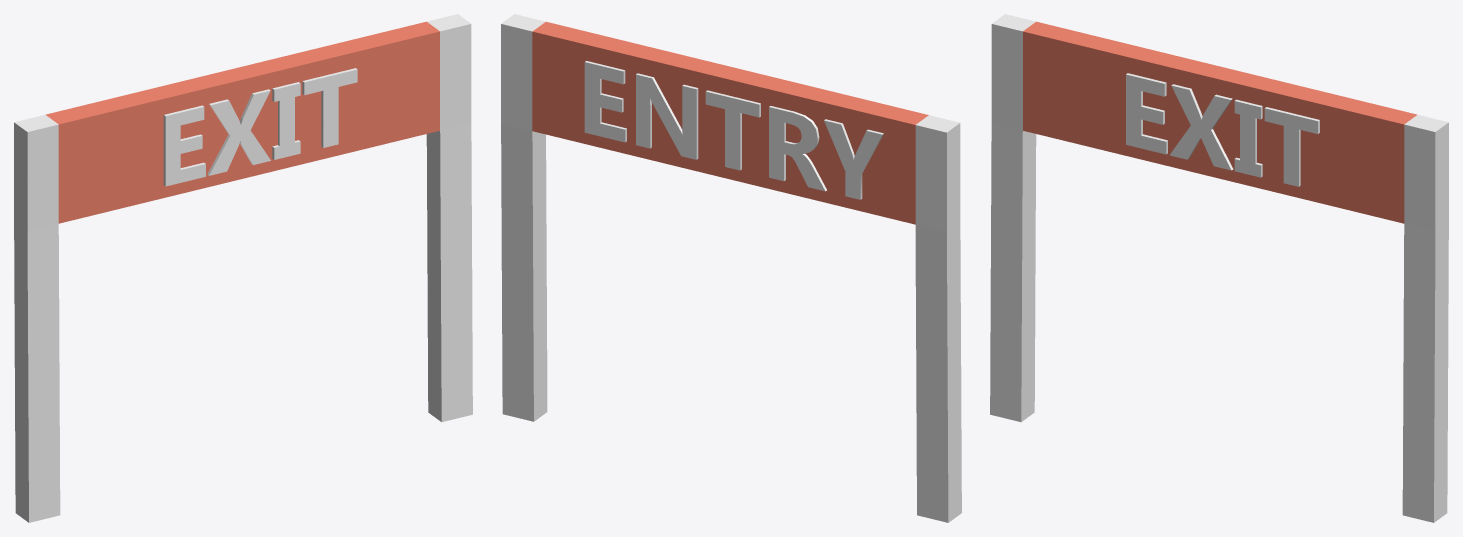
File: Entry_N_Exit_Gate.fbx
The picture shows the model from 3 angles, left to right: view 1: azimuth 30°, elevation 25°; view 2: azimuth 150°, elevation 25°; view 3: azimuth 330°, elevation 25°; orthographic projection.
Visible parts, largest first — view 1: Entry_N_Exit_Gate; view 2: Entry_N_Exit_Gate; view 3: Entry_N_Exit_Gate.
Part boxes in pixels (bbox=[...]): Entry_N_Exit_Gate: bbox=[14, 14, 472, 522]; Entry_N_Exit_Gate: bbox=[501, 14, 961, 522]; Entry_N_Exit_Gate: bbox=[990, 14, 1448, 522].
Bounding box in the file's own units: 18.23 × 15.29 × 1.21.
Materials: 1 (1 with a texture image).
